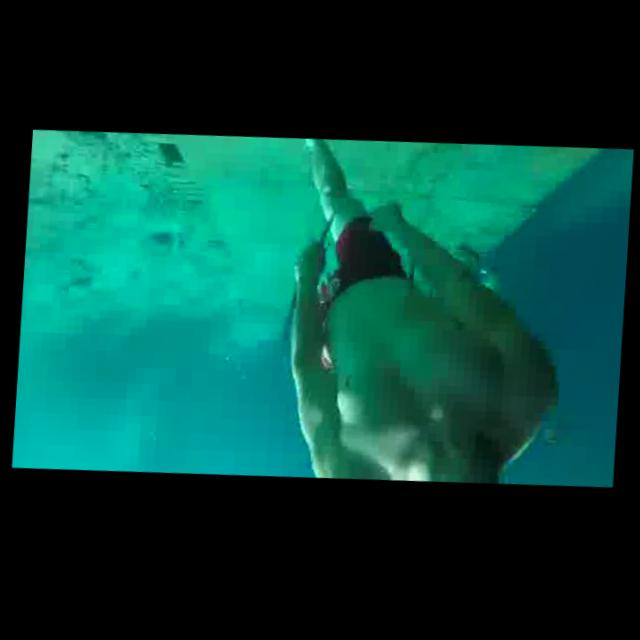human: (265, 131, 584, 498)
